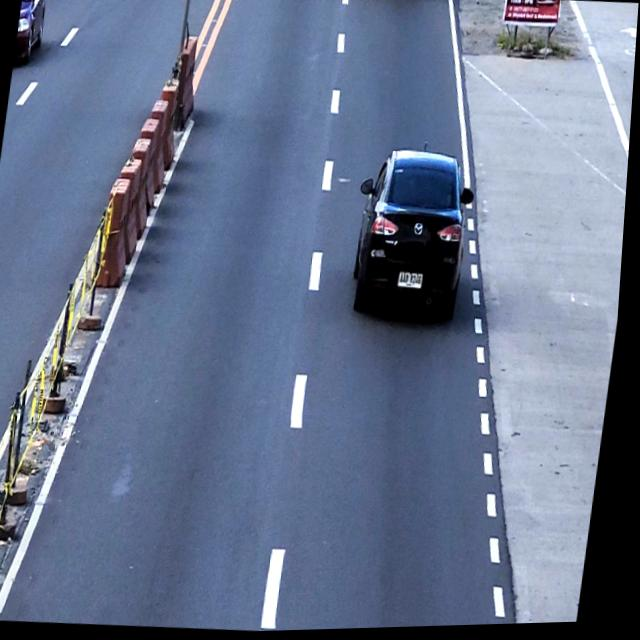Car: (347, 142, 483, 325), (14, 0, 48, 66)
License-Plate: (400, 270, 428, 293)
